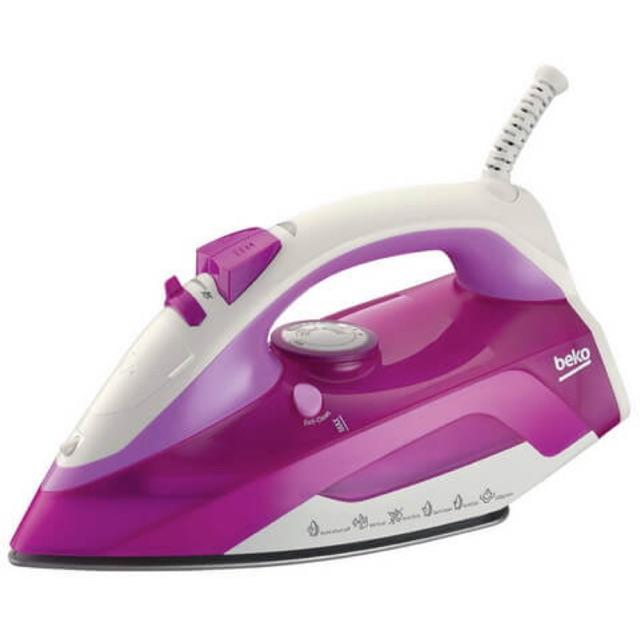Clothes-Iron: (2, 170, 640, 578)
